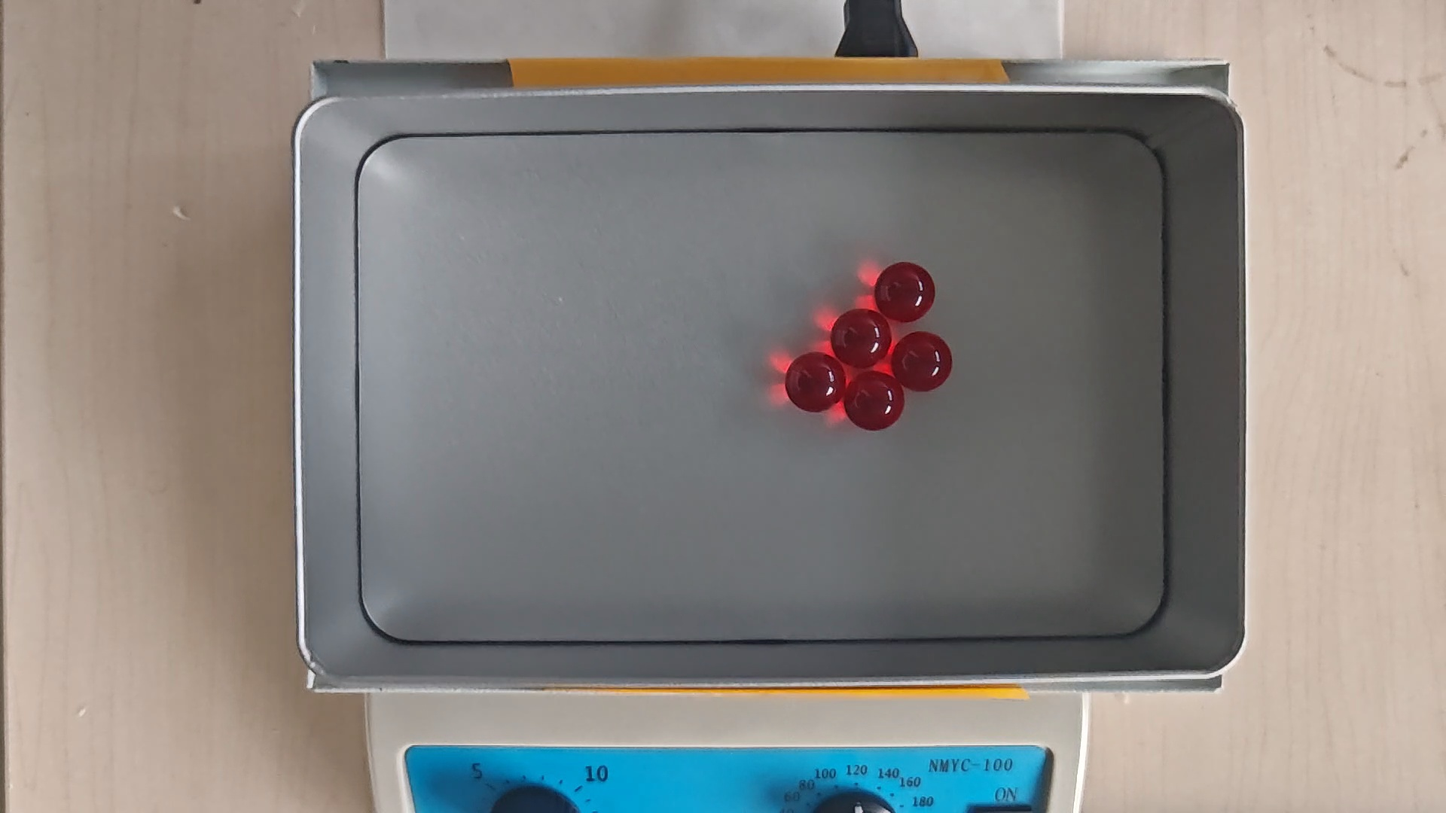ball: (876, 260, 935, 322), (788, 351, 845, 413), (833, 309, 891, 369), (895, 333, 950, 392), (847, 373, 903, 430)
container: (354, 130, 1168, 644)
